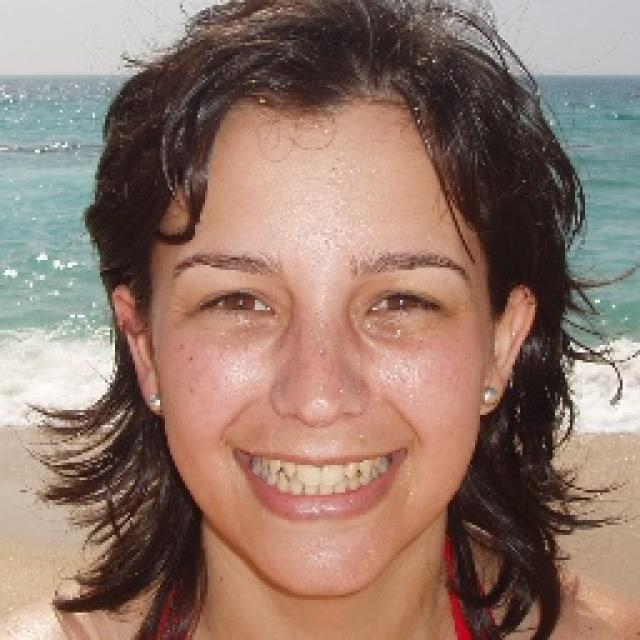earlobe: (478, 283, 536, 417), (110, 285, 162, 415)
